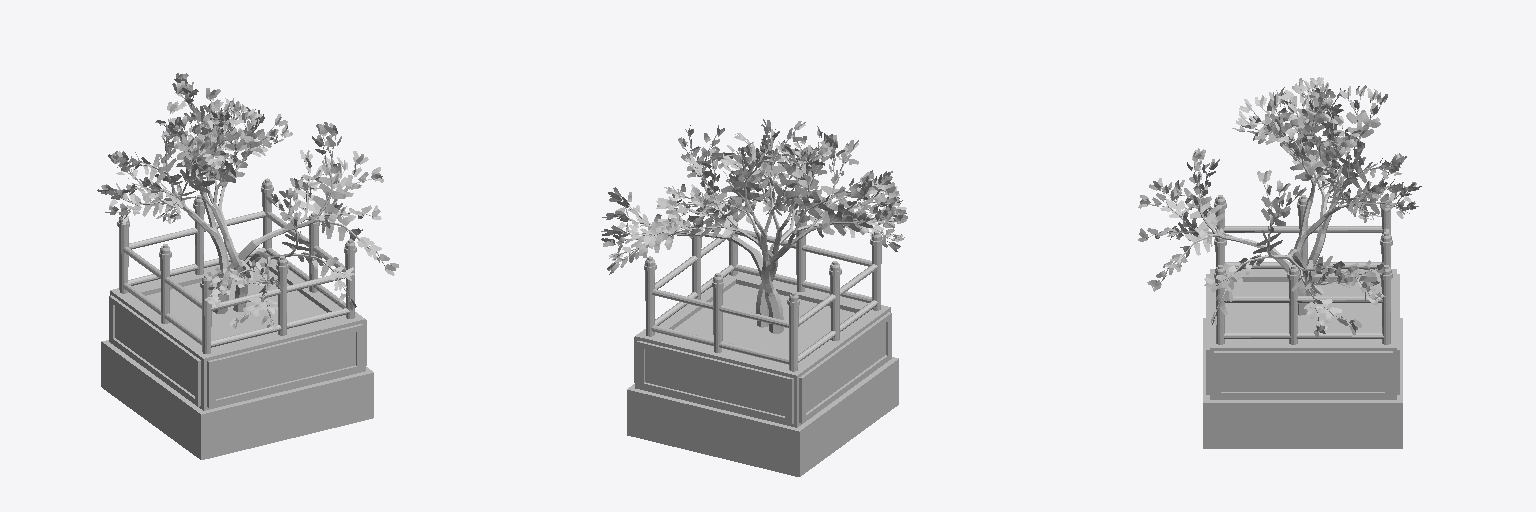
File: decimatedplant0.8.obj
3 renders of one model, left to right at view 1: azimuth 30°, elevation 25°; view 2: azimuth 150°, elevation 25°; view 3: azimuth 270°, elevation 25°, orthographic.
Visible parts, largest first — view 1: objPlant.000; view 2: objPlant.000; view 3: objPlant.000.
Boxes of the visible parts, box(x1,y1,x2,y2) form: objPlant.000: box(97, 73, 398, 459); objPlant.000: box(601, 119, 907, 476); objPlant.000: box(1138, 77, 1421, 448).
Size of the model in its own units: 0.5649 by 0.5844 by 0.4797.